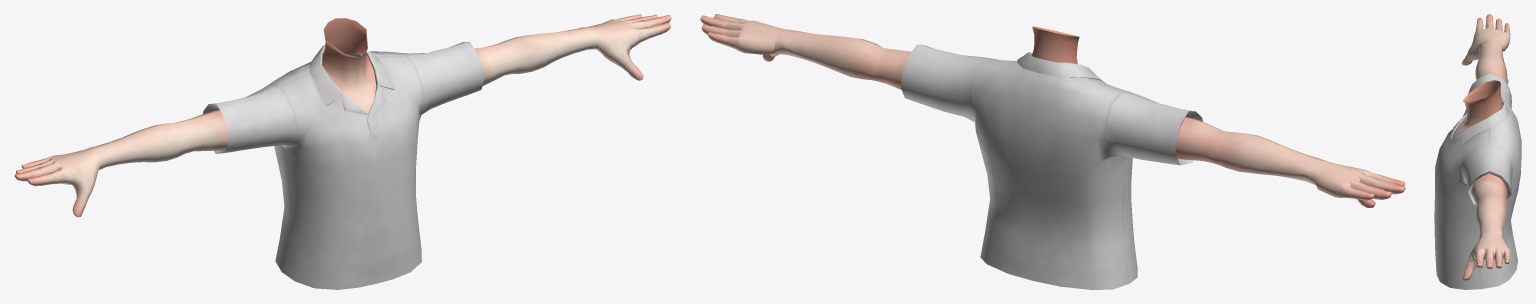
File: tr0840_00_upb01.gltf
3 renders of one model, left to right at view 1: azimuth 30°, elevation 25°; view 2: azimuth 150°, elevation 25°; view 3: azimuth 270°, elevation 25°, orthographic. The views are drawn at different scales.
Parts seen in each view (by area): view 1: upb01_upperbody_mesh_shape:upperbody01, upb01_upperbodyskin_mesh_shape:upperbody01_skin; view 2: upb01_upperbody_mesh_shape:upperbody01, upb01_upperbodyskin_mesh_shape:upperbody01_skin; view 3: upb01_upperbody_mesh_shape:upperbody01, upb01_upperbodyskin_mesh_shape:upperbody01_skin.
Boxes of the visible parts, x1,y1,x2,y2 form: upb01_upperbody_mesh_shape:upperbody01: [203, 41, 484, 289]; upb01_upperbodyskin_mesh_shape:upperbody01_skin: [14, 14, 671, 217]; upb01_upperbody_mesh_shape:upperbody01: [900, 44, 1202, 289]; upb01_upperbodyskin_mesh_shape:upperbody01_skin: [700, 14, 1405, 207]; upb01_upperbody_mesh_shape:upperbody01: [1434, 73, 1521, 289]; upb01_upperbodyskin_mesh_shape:upperbody01_skin: [1452, 14, 1510, 280].
Size of what is drawn, in the model's own units: 1.63 by 0.5595 by 0.2388.
Materials: 2 (2 with a texture image).
